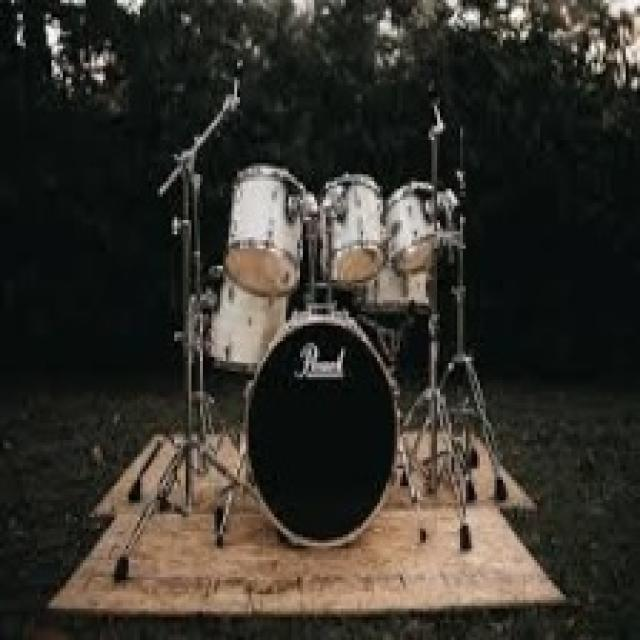drums: (131, 75, 523, 556)
